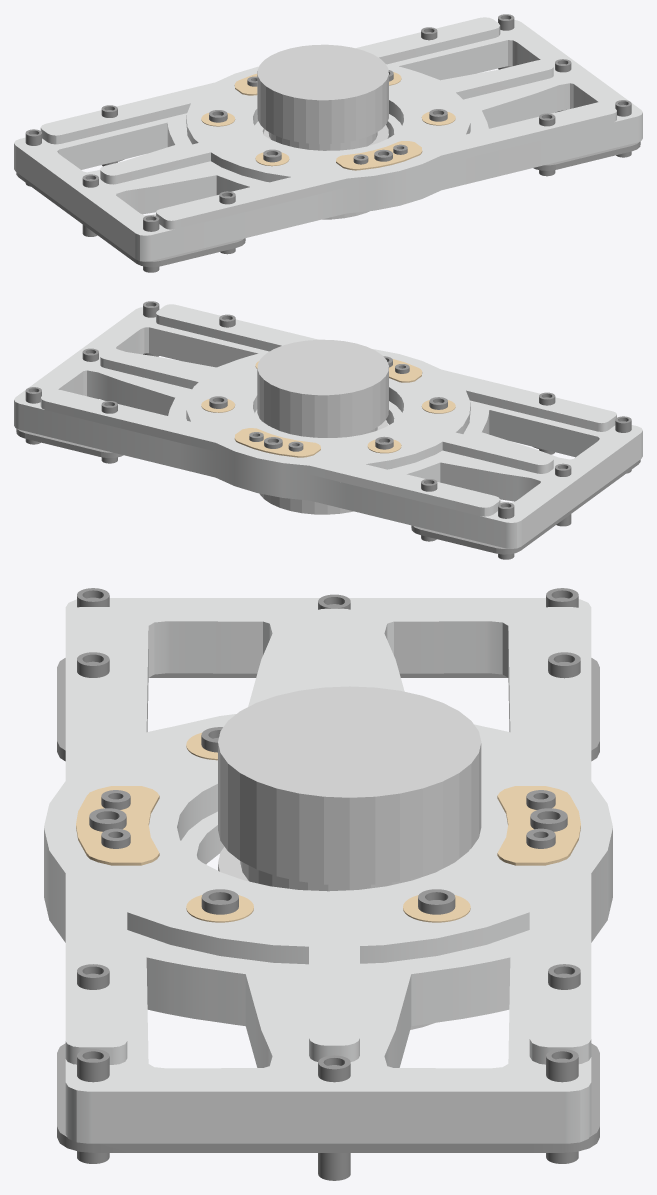
Rendered from Interface Plate1.fbx.
3 views of the same model, one above another, from view 1: azimuth 30°, elevation 25°; view 2: azimuth 150°, elevation 25°; view 3: azimuth 270°, elevation 25° (orthographic). The views are drawn at different scales.
Parts seen in each view (by area): view 1: Cylinder, Cylinder.002, Cylinder.003, Cylinder.001, Cube.002, Cylinder.004, Cylinder.005; view 2: Cylinder, Cylinder.002, Cylinder.003, Cylinder.001, Cube.002, Cylinder.004, Cylinder.005; view 3: Cylinder, Cylinder.002, Cylinder.001, Cylinder.003, Cube.002, Cylinder.004, Cylinder.005.
Part boxes in pixels (<box>): Cylinder: <box>14,17,642,261</box>; Cylinder.002: <box>257,44,388,219</box>; Cylinder.003: <box>25,14,631,272</box>; Cylinder.001: <box>16,141,640,267</box>; Cube.002: <box>234,73,422,170</box>; Cylinder.004: <box>209,70,447,164</box>; Cylinder.005: <box>201,72,455,166</box>; Cylinder: <box>14,304,642,548</box>; Cylinder.002: <box>257,339,388,514</box>; Cylinder.003: <box>25,301,631,559</box>; Cylinder.001: <box>16,397,640,554</box>; Cube.002: <box>234,359,422,457</box>; Cylinder.004: <box>209,356,447,451</box>; Cylinder.005: <box>201,361,455,453</box>; Cylinder: <box>44,598,612,1143</box>; Cylinder.002: <box>218,686,481,1029</box>; Cylinder.001: <box>57,658,599,1152</box>; Cylinder.003: <box>77,588,580,1180</box>; Cube.002: <box>76,786,580,865</box>; Cylinder.004: <box>89,727,567,914</box>; Cylinder.005: <box>186,732,470,922</box>.
Size of the model in its own units: 410 by 92.58 by 200.
Materials: 1 (1 with a texture image).
